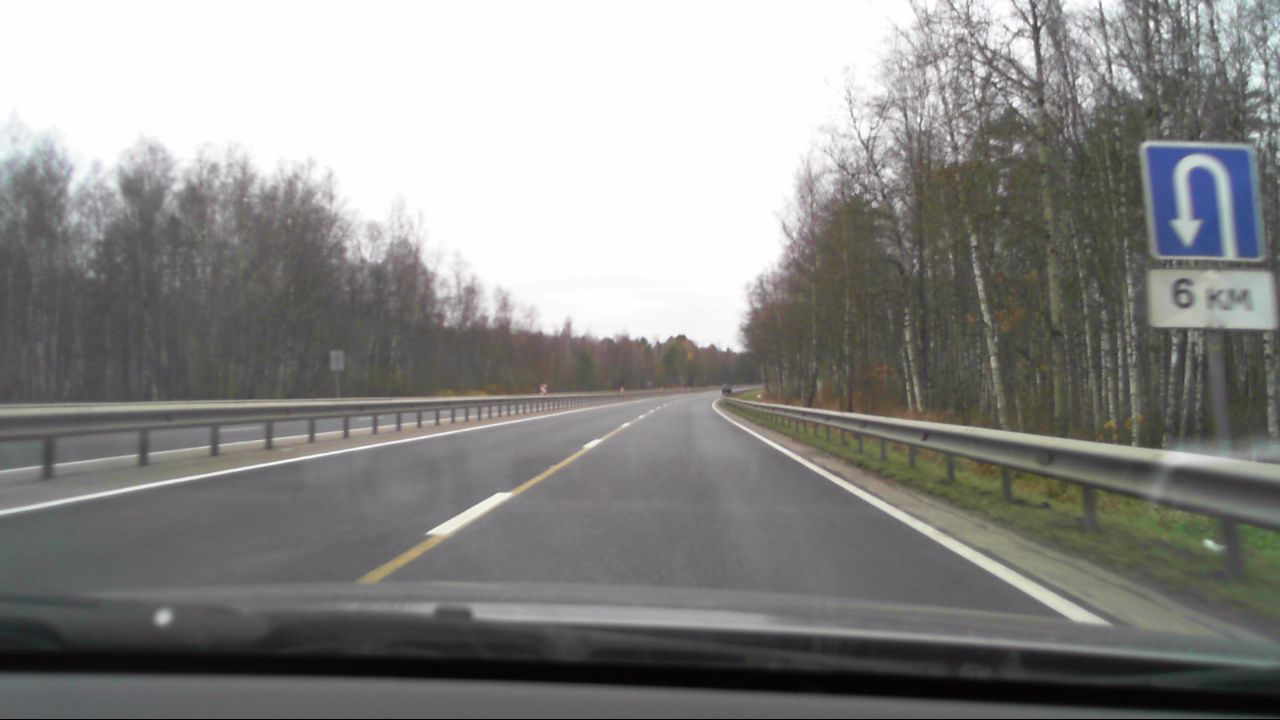U-turn: (1147, 142, 1262, 260)
